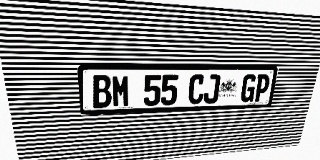5: (144, 75, 161, 106), (161, 75, 178, 105)
B: (91, 75, 112, 108)
C: (188, 74, 205, 104)
G: (240, 74, 257, 102)
J: (203, 74, 221, 104)
M: (111, 75, 130, 107)
P: (253, 74, 271, 102)
